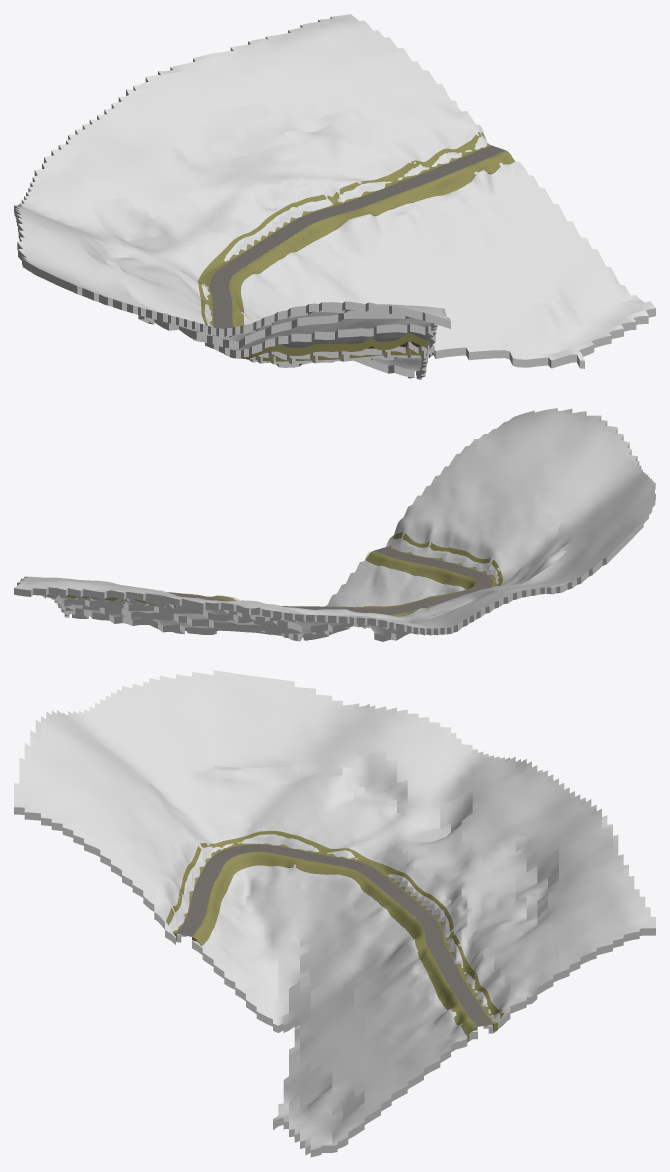
The model's file is conz_70.glb.
The picture shows the model from 3 angles, top to bottom: view 1: azimuth 30°, elevation 25°; view 2: azimuth 150°, elevation 25°; view 3: azimuth 270°, elevation 25°; orthographic projection. The views are drawn at different scales.
Parts seen in each view (by area): view 1: terrain70, verge70L, verge70R, road70; view 2: terrain70, road70, verge70R, verge70L; view 3: terrain70, road70, verge70R, verge70L.
Part boxes in pixels (x1=…): terrain70: x1=14, y1=14, x2=655, y2=379; verge70L: x1=198, y1=132, x2=490, y2=361; verge70R: x1=229, y1=150, x2=515, y2=326; road70: x1=209, y1=145, x2=505, y2=328; terrain70: x1=14, y1=408, x2=655, y2=641; road70: x1=169, y1=547, x2=493, y2=614; verge70R: x1=167, y1=550, x2=476, y2=608; verge70L: x1=43, y1=532, x2=502, y2=616; terrain70: x1=14, y1=670, x2=655, y2=1157; road70: x1=176, y1=844, x2=493, y2=1026; verge70R: x1=192, y1=852, x2=477, y2=1042; verge70L: x1=166, y1=831, x2=503, y2=1031.
Bounding box in the file's own units: 248 × 96.39 × 238.
